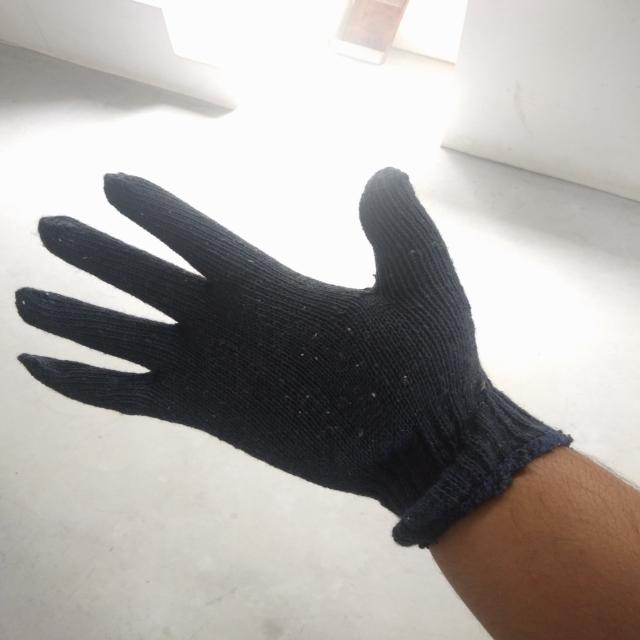glove: (12, 166, 579, 554)
